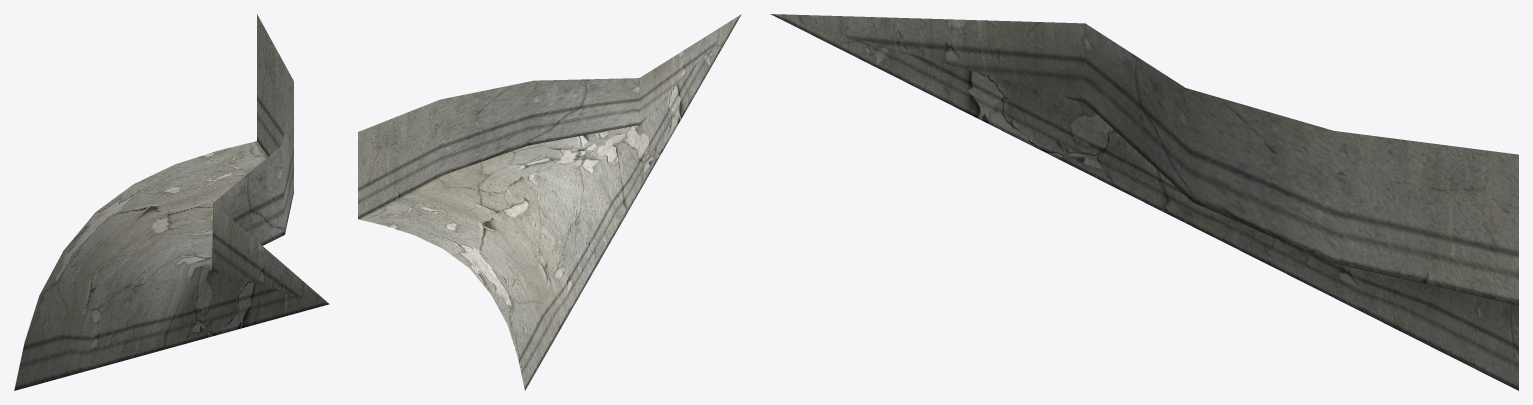
The model's file is urban_damaged_deco_right_angle_end_ceiling.dae.
3 views of the same model, side by side, from view 1: azimuth 30°, elevation 25°; view 2: azimuth 150°, elevation 25°; view 3: azimuth 270°, elevation 25° (orthographic). The views are drawn at different scales.
Visible parts, largest first — view 1: polySurface781; view 2: polySurface781; view 3: polySurface781.
Part boxes in pixels (bbox=[...]): polySurface781: bbox=[14, 14, 329, 390]; polySurface781: bbox=[358, 14, 741, 390]; polySurface781: bbox=[770, 14, 1518, 390].
Bounding box in the file's own units: 1 × 1.25 × 2.25.
